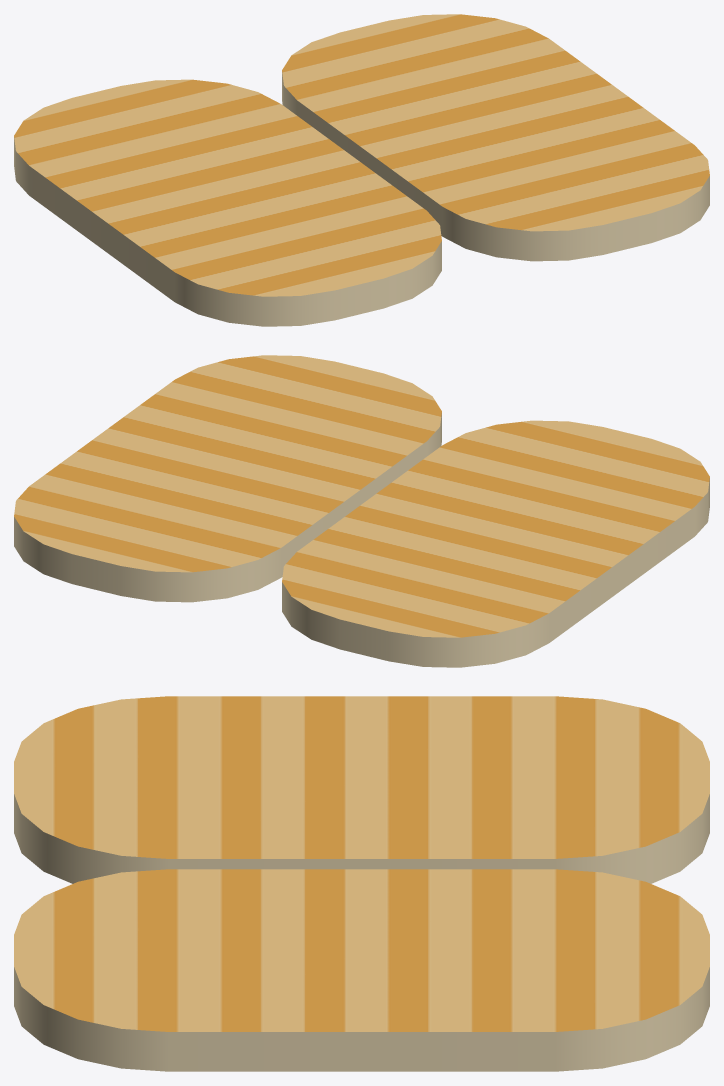
File: Halloumi_Slice.glb
The picture shows the model from 3 angles, top to bottom: view 1: azimuth 30°, elevation 25°; view 2: azimuth 150°, elevation 25°; view 3: azimuth 270°, elevation 25°; orthographic projection. The views are drawn at different scales.
Visible parts, largest first — view 1: Halloumi_Slice; view 2: Halloumi_Slice; view 3: Halloumi_Slice.
Boxes of the visible parts, left/top/right/bottom form: Halloumi_Slice: left=14, top=14, right=709, bottom=326; Halloumi_Slice: left=14, top=355, right=709, bottom=667; Halloumi_Slice: left=14, top=696, right=709, bottom=1071.
Bounding box in the file's own units: 18.15 × 1 × 15.89.
Materials: 1 (1 with a texture image).
